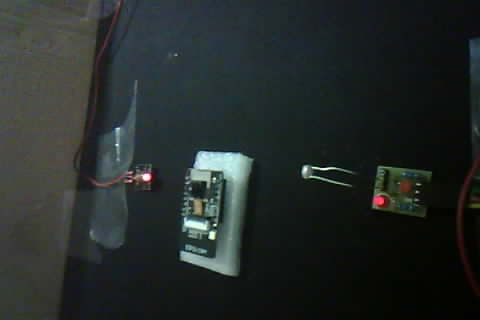esp32: (175, 147, 253, 269)
